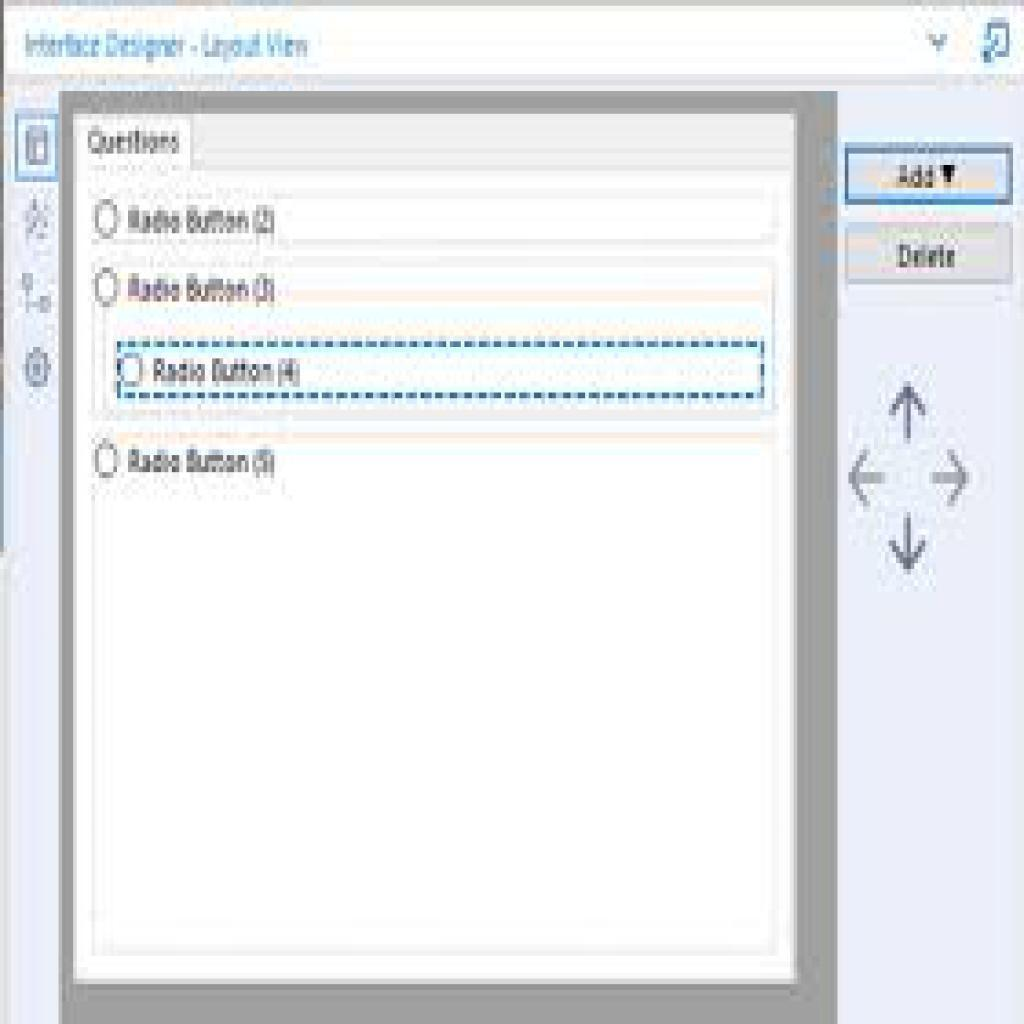dropdown: (845, 144, 1013, 205)
radio: (91, 435, 125, 483), (91, 199, 123, 247), (92, 265, 124, 312), (119, 351, 148, 391)
